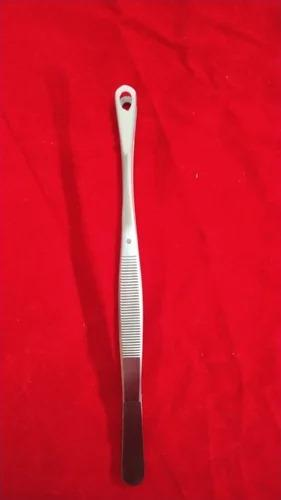Eye Intestinal Forceps: (95, 80, 162, 488)
